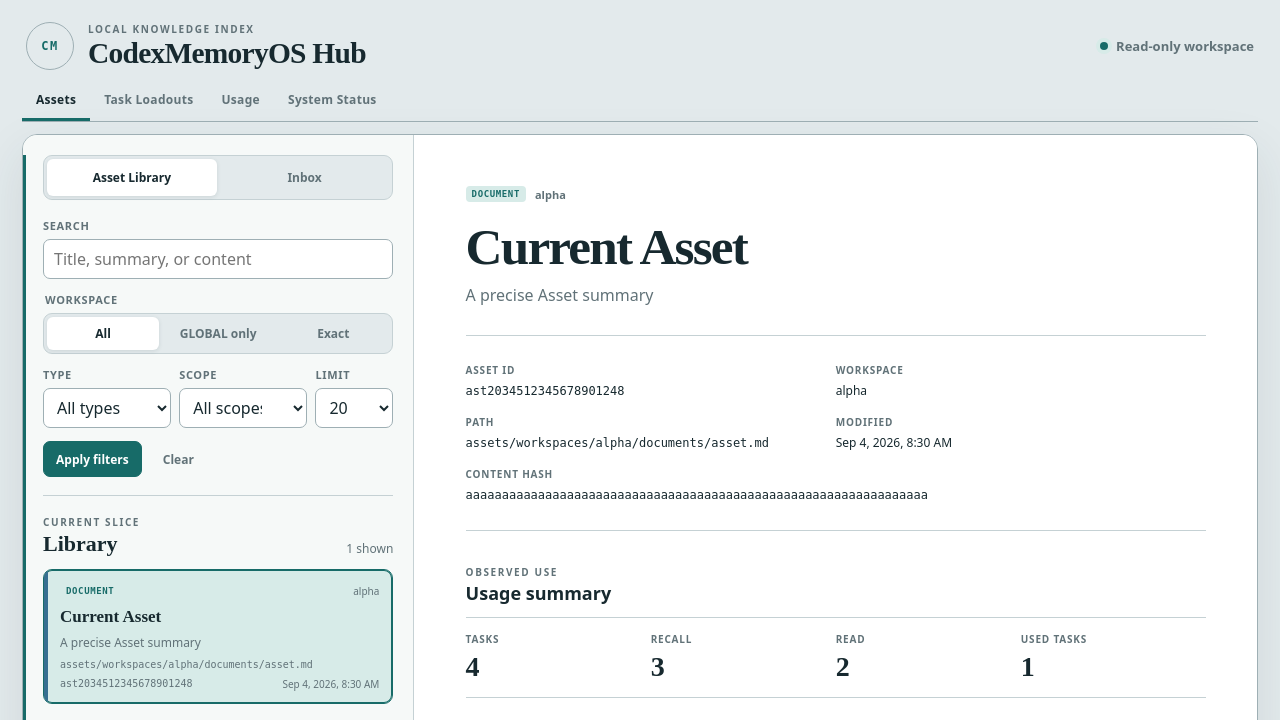
Scenario: Asset Desk › treats a missing Inbox as a normal empty state
This screenshot has width=1280, height=720.
Click the tab "Inbox" at (305, 178), box [220, 159, 389, 196]
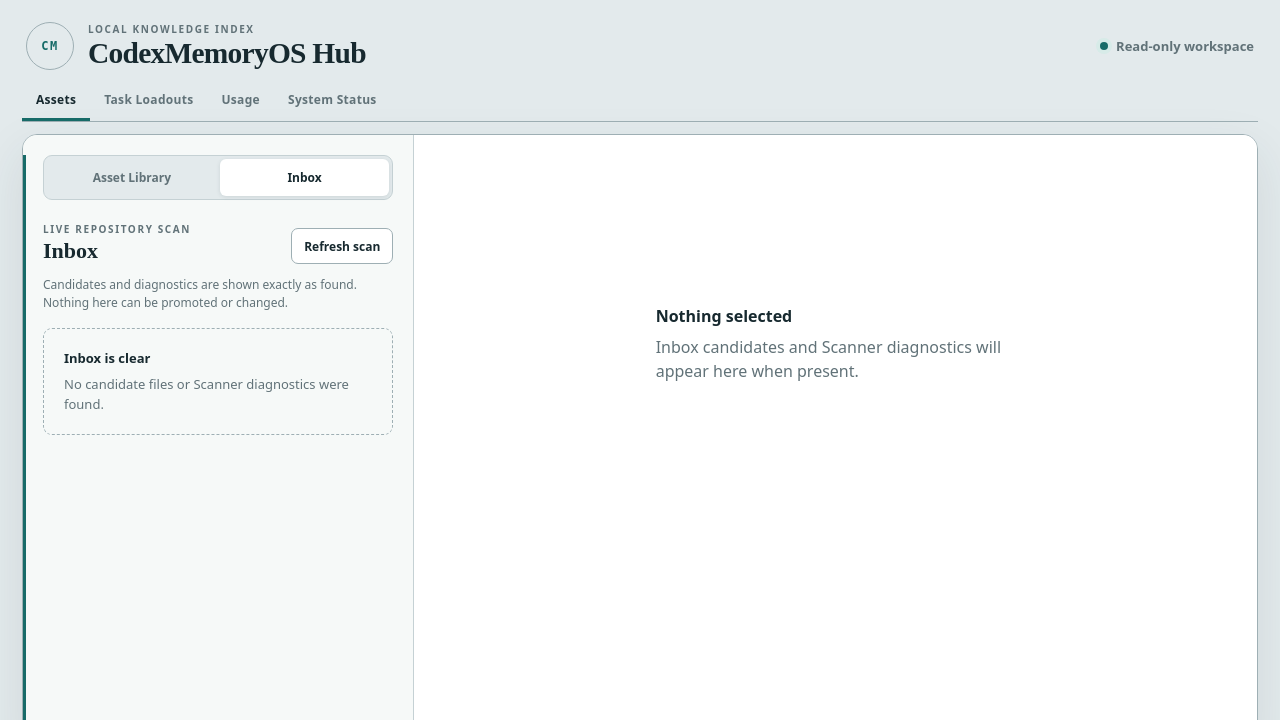
Result: the text "Inbox is clear" is shown at [64, 349, 150, 367]
